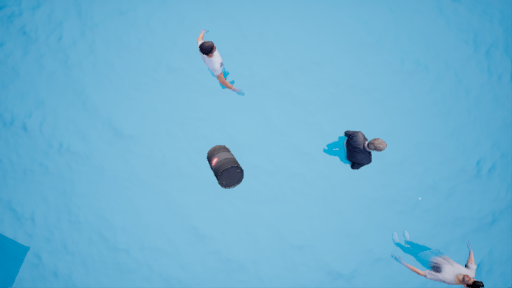person: (394, 227, 481, 288), (322, 129, 409, 177), (193, 32, 243, 102)
